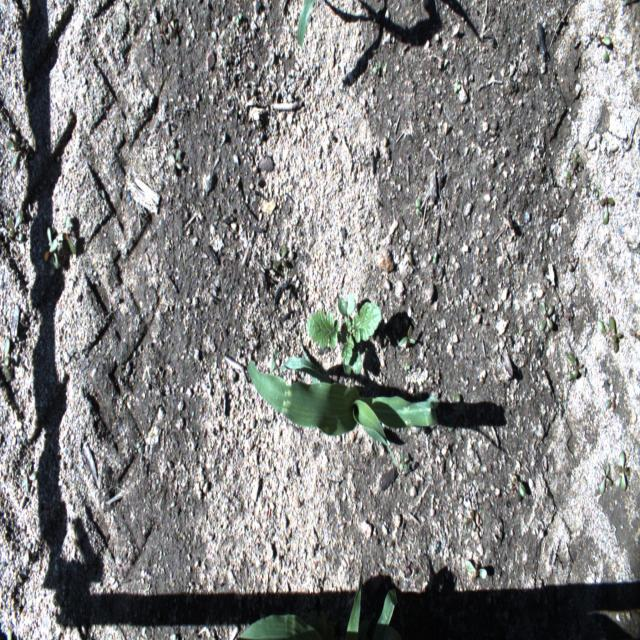crop: (248, 331, 437, 461), (238, 584, 362, 639), (372, 588, 401, 640), (296, 0, 316, 44)
weed: (306, 295, 384, 378), (42, 219, 75, 268), (598, 306, 626, 352), (4, 118, 29, 168), (590, 182, 615, 224), (460, 557, 490, 584), (3, 208, 25, 242), (614, 452, 631, 493), (562, 346, 583, 378), (536, 300, 557, 332), (563, 146, 583, 176), (596, 462, 614, 494), (595, 33, 613, 64), (508, 471, 528, 497), (165, 148, 184, 174), (397, 326, 416, 351), (559, 249, 575, 277), (271, 248, 288, 274), (1, 336, 10, 381), (23, 462, 35, 493), (470, 288, 482, 318), (463, 504, 476, 531), (18, 539, 32, 562), (400, 357, 413, 377), (399, 454, 410, 476), (453, 82, 464, 104), (455, 389, 465, 413), (414, 193, 424, 217), (270, 348, 281, 369), (430, 248, 440, 268), (372, 58, 382, 78), (604, 396, 618, 410), (370, 238, 382, 254), (627, 327, 638, 340), (4, 622, 14, 636), (518, 322, 523, 338)
